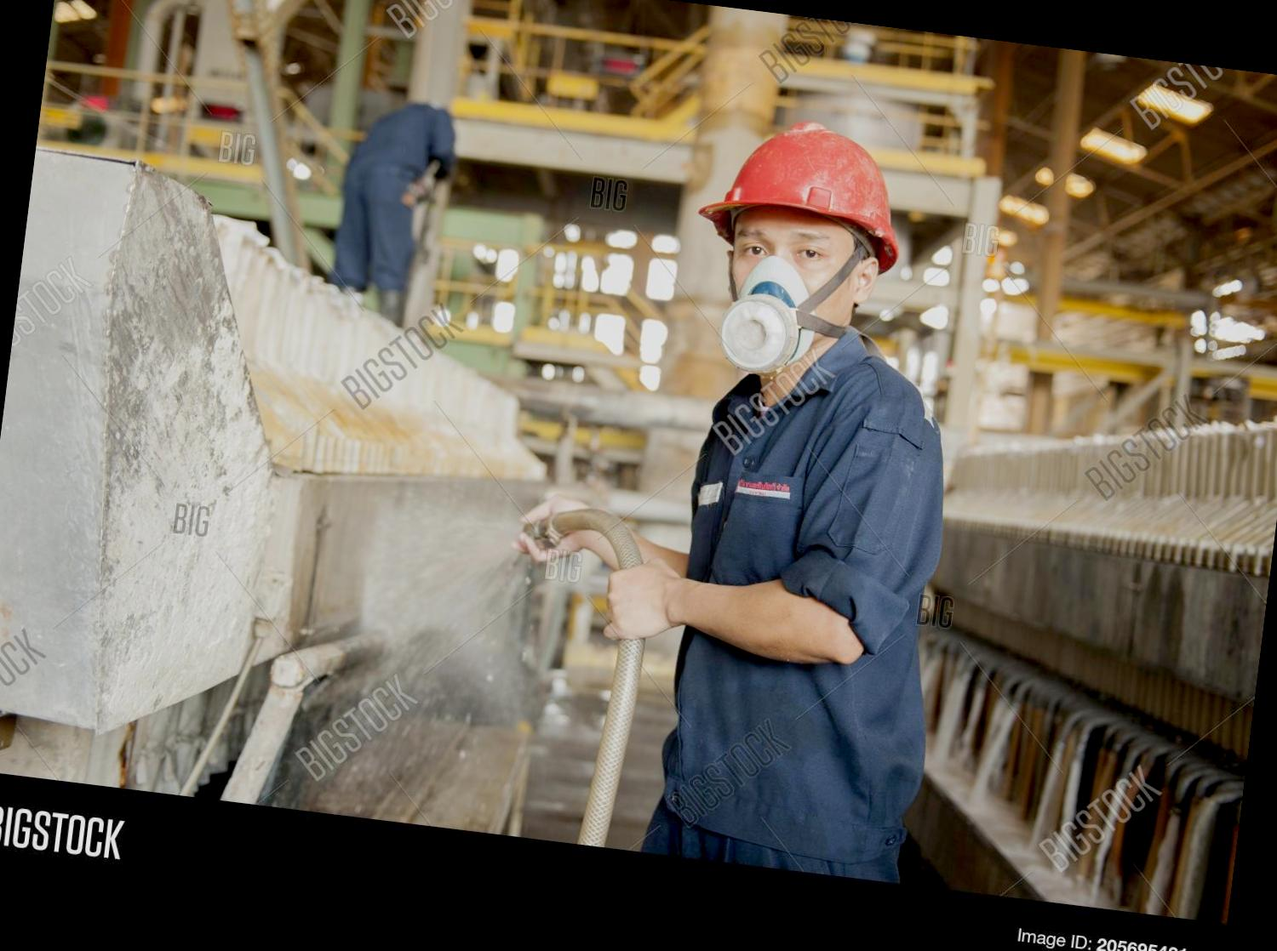helmet: (685, 112, 915, 268)
no_vest: (663, 354, 952, 823)
person: (614, 106, 999, 889)
